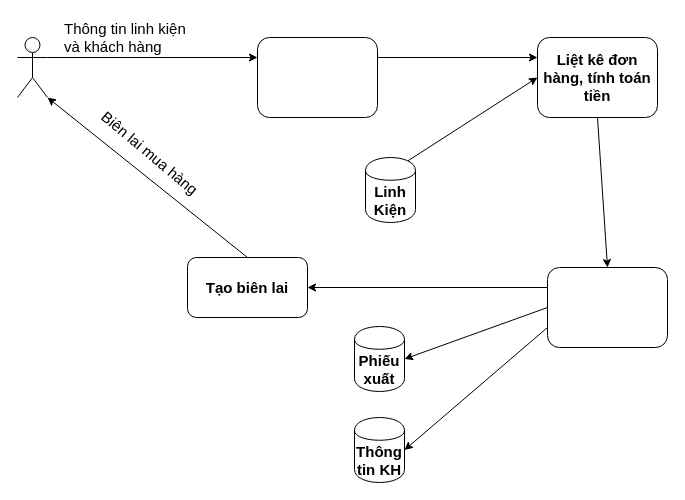
Some shapes in this 685 by 500 pixel diagram are drawn without their labels. Each missing label, with the centre of its shape:
"Actor" goes at point (32, 67).
"Lưu hóa đơn" goes at point (607, 307).
"Thanh Toán" goes at point (317, 77).
